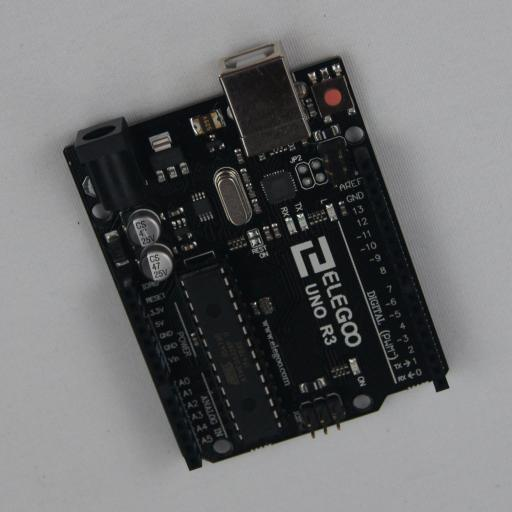Arduino Uno -Black-: (63, 44, 449, 471)
